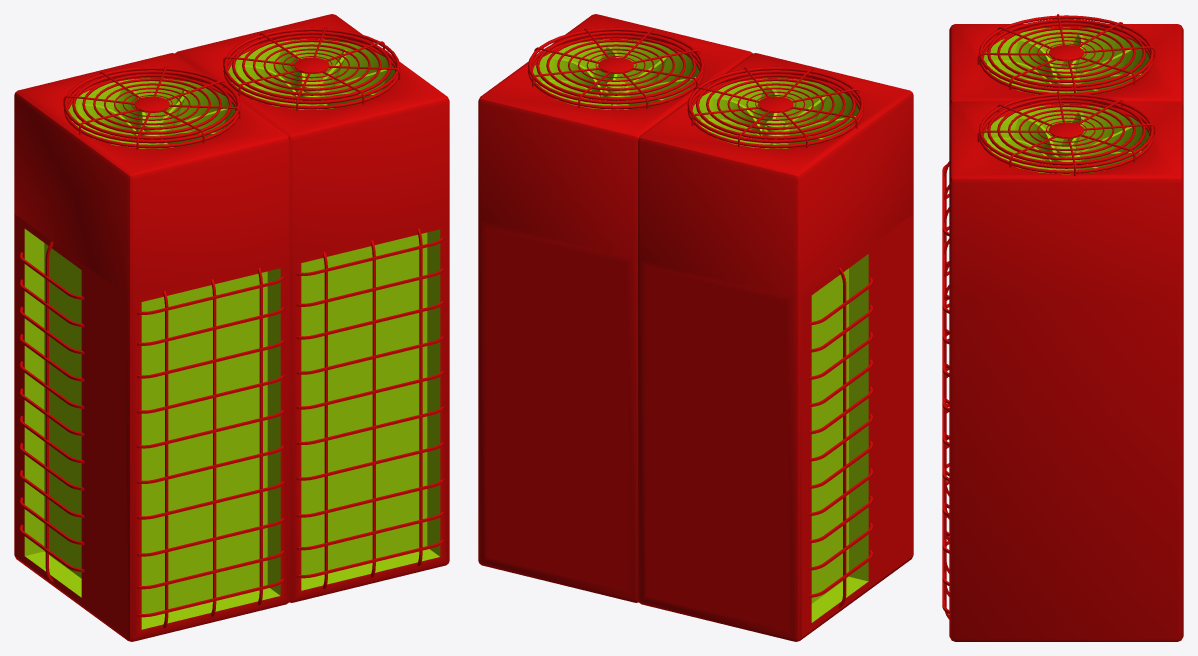
3 views of the same model, side by side, from view 1: azimuth 30°, elevation 25°; view 2: azimuth 150°, elevation 25°; view 3: azimuth 270°, elevation 25° (orthographic).
Visible parts, largest first — view 1: OU_93; view 2: OU_93; view 3: OU_93.
Boxes of the visible parts, x1=… form: OU_93: x1=14, y1=14, x2=449, y2=641; OU_93: x1=478, y1=14, x2=913, y2=641; OU_93: x1=942, y1=14, x2=1183, y2=641.
Bounding box in the file's own units: 48.75 × 67.79 × 31.
